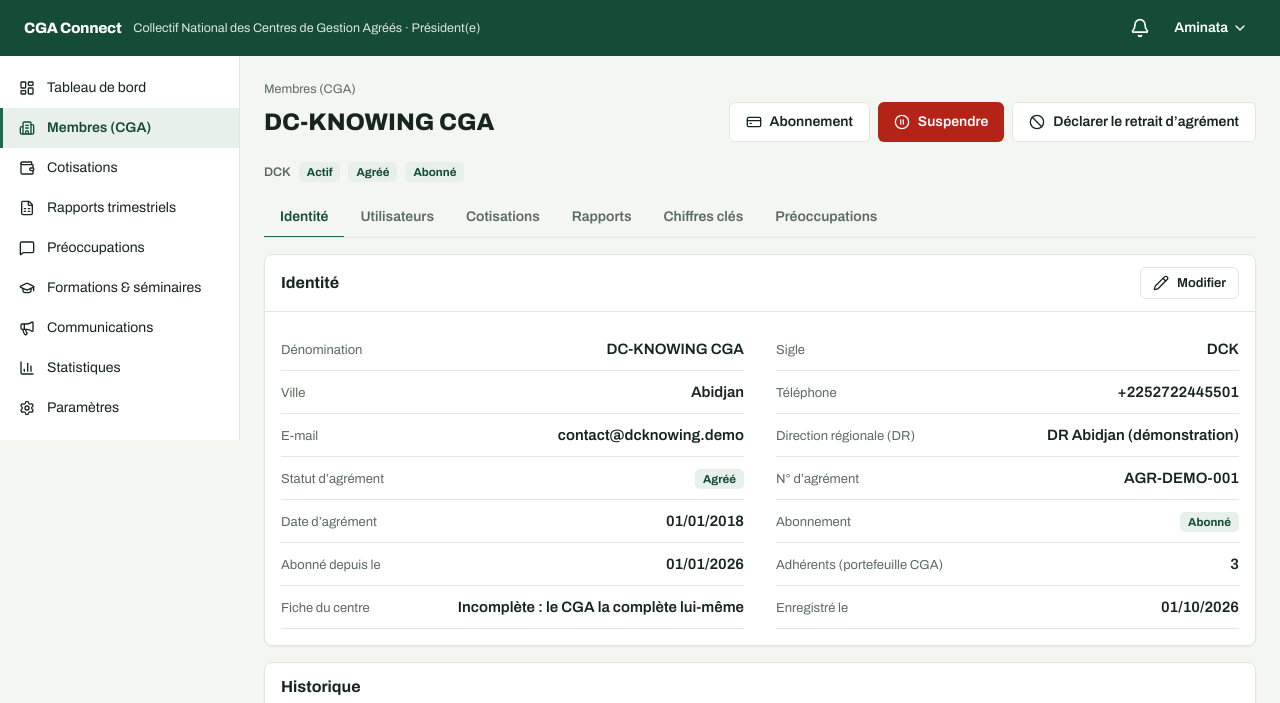
Scenario: Modifier la fiche en place (03-APPFLOW §3.2) › formulaire prérempli ; Enregistrer → PUT de la fiche, toast, retour à la fiche mise à jour
The image size is (1280, 703).
Expected: the heading "DC-KNOWING CGA" is shown, [264, 106, 494, 138]
Click the button "Modifier" at (1190, 283), box [1140, 267, 1239, 299]
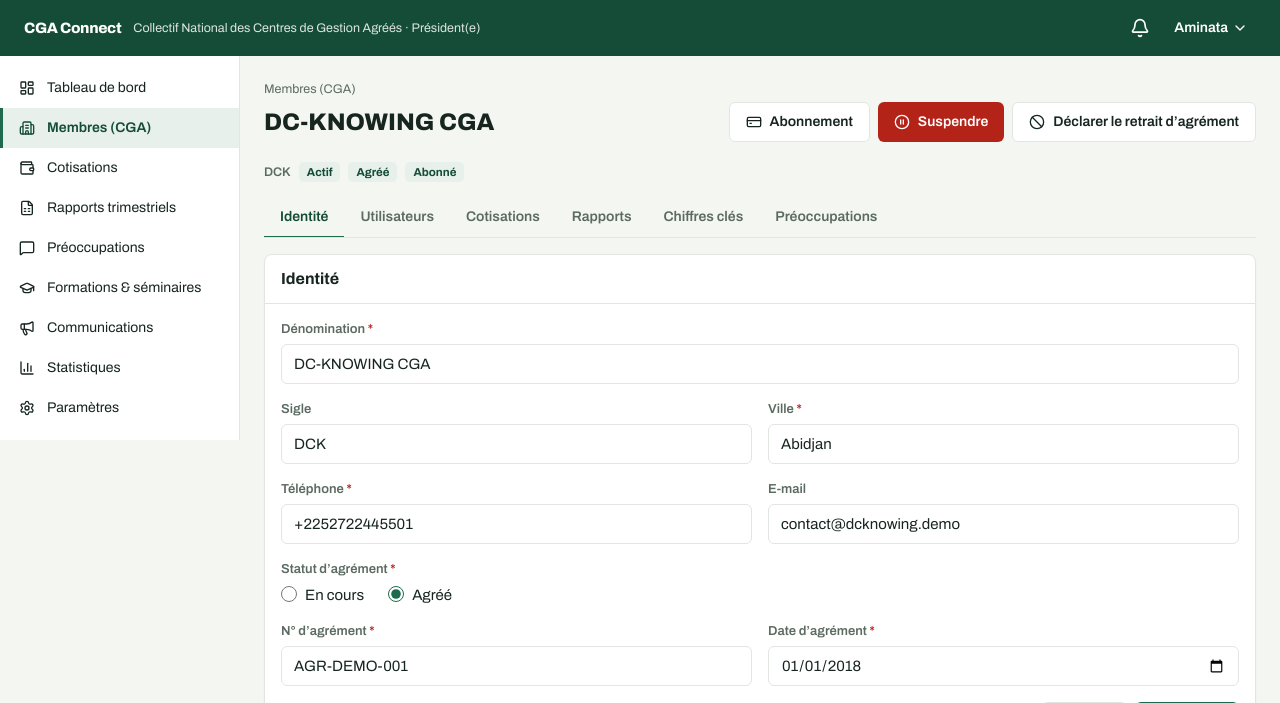
Expected: the radio button labelled "Agréé" is checked, [388, 586, 404, 602]
Replace the text in the field labelled "Ville *" with "Abidjan-Plateau" at (1004, 444), box [768, 424, 1239, 464]
(page scrolled)
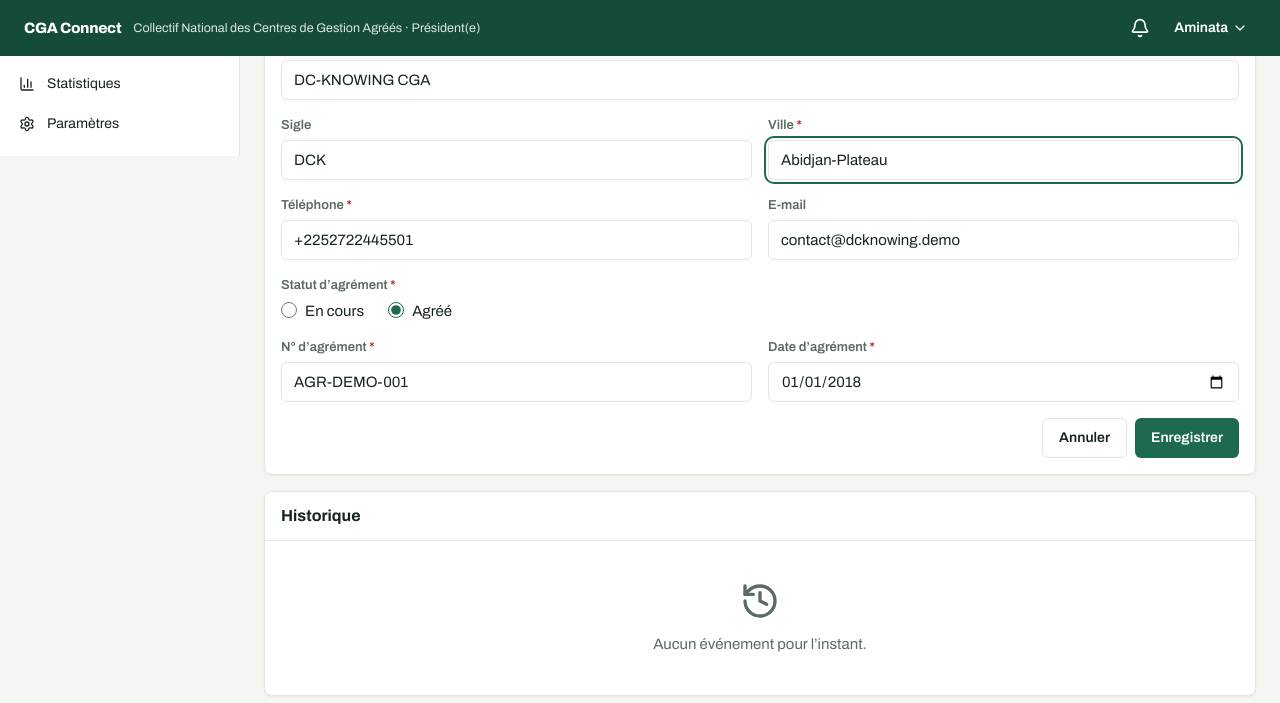
Click the button "Enregistrer" at (1187, 438), box [1135, 418, 1239, 458]
(page scrolled)
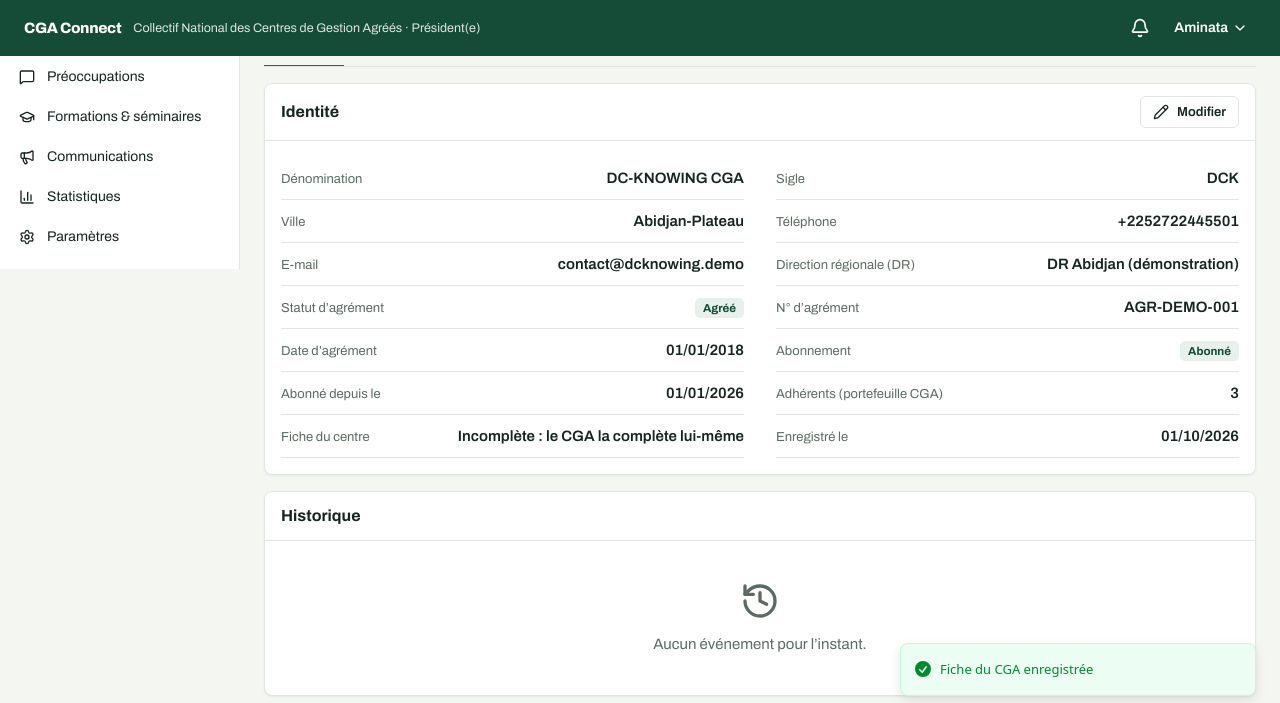
Expected: the text "Fiche du CGA enregistrée" is shown, [940, 660, 1094, 679]
Expected: the text "Abidjan-Plateau" is shown, [634, 210, 744, 232]
Expected: the button "Enregistrer" is gone
